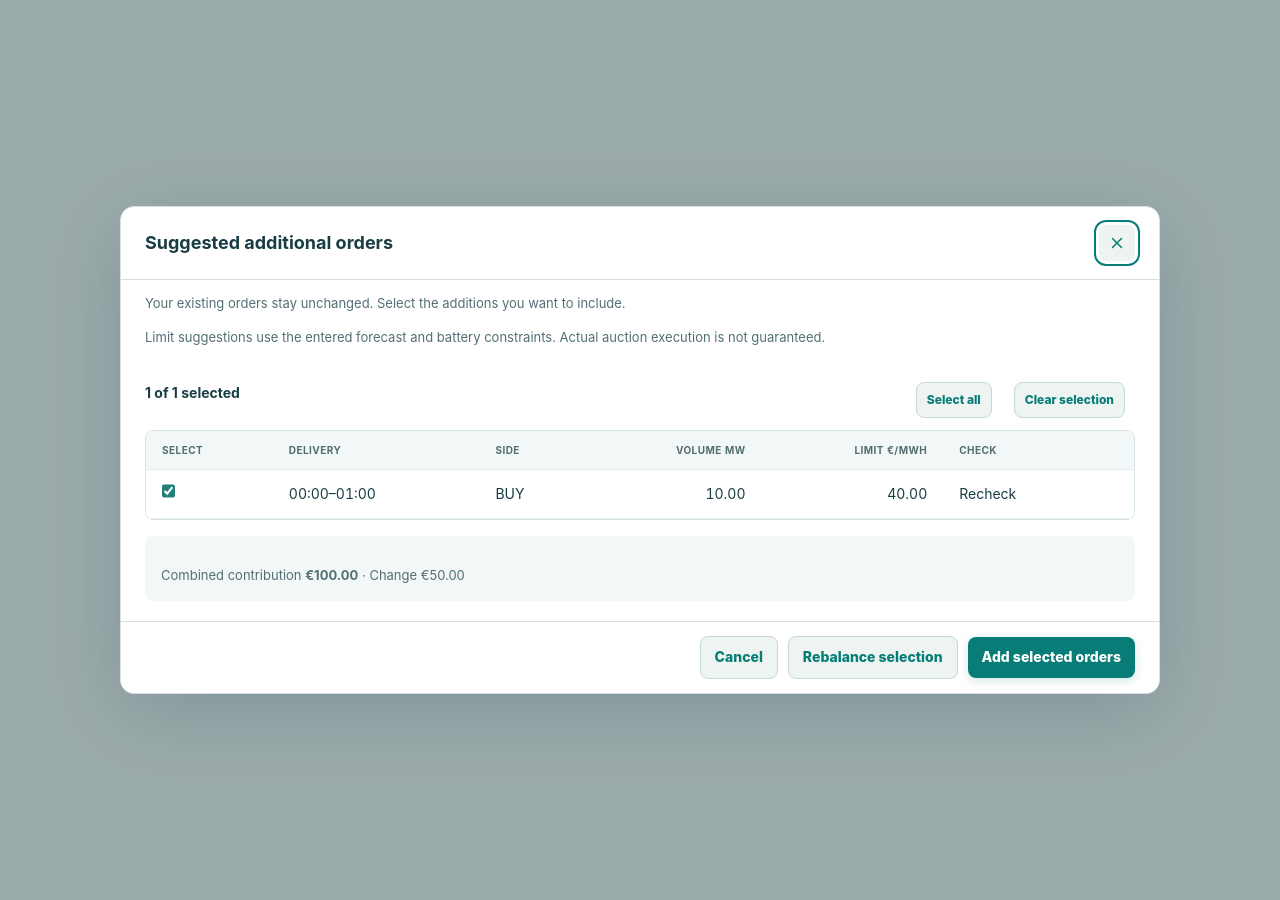
Test: does not append a subset that fails final validation
Click the button "Add selected orders": x=1051, y=658 [968, 637, 1135, 678]
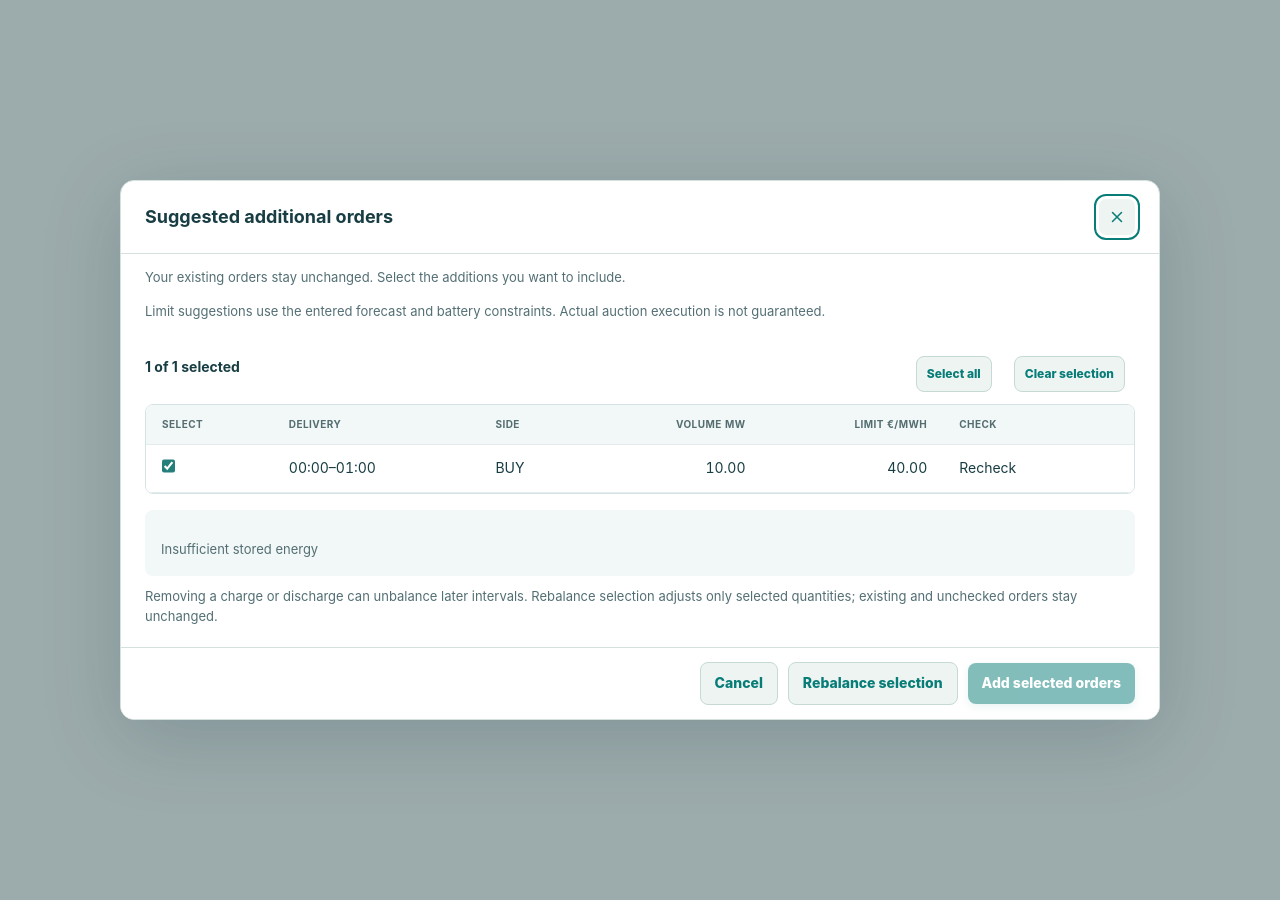
Expected: the text "Insufficient stored energy" is shown, [161, 541, 318, 557]
